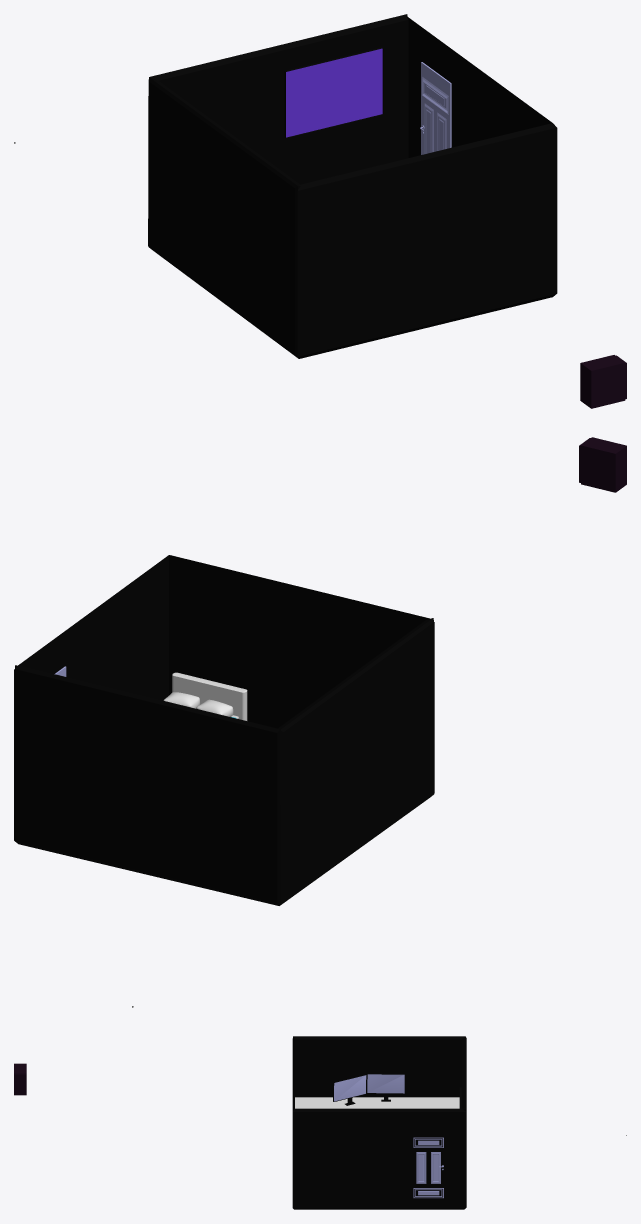
The model's file is hračroomka.fbx.
The picture shows the model from 3 angles, top to bottom: view 1: azimuth 30°, elevation 25°; view 2: azimuth 150°, elevation 25°; view 3: azimuth 270°, elevation 25°; orthographic projection. The views are drawn at different scales.
Visible parts, largest first — view 1: Plane, Plane.002, Door.004, Cube.007; view 2: Plane, Cube.007, Cube.006, Cube.010; view 3: Plane, Cube.001, Door.004, Cube.002, Cube.004, Cube.007.
Part boxes in pixels (x1,y1,x2,y2): Plane: (148,14,557,358); Plane.002: (284,47,383,138); Door.004: (420,62,451,154); Cube.007: (580,355,626,408); Plane: (14,555,434,905); Cube.007: (579,437,626,492); Cube.006: (172,672,247,720); Cube.010: (163,692,233,716); Plane: (292,1036,466,1209); Cube.001: (295,1097,459,1108); Door.004: (413,1137,443,1198); Cube.002: (367,1073,405,1093); Cube.004: (333,1074,366,1101); Cube.007: (14,1063,26,1095).
Bounding box in the file's own units: 831 × 525 × 2887.
